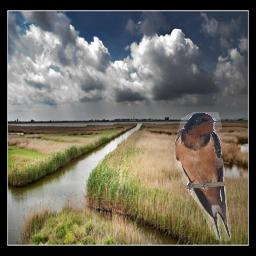Swallow: (174, 112, 231, 241)
